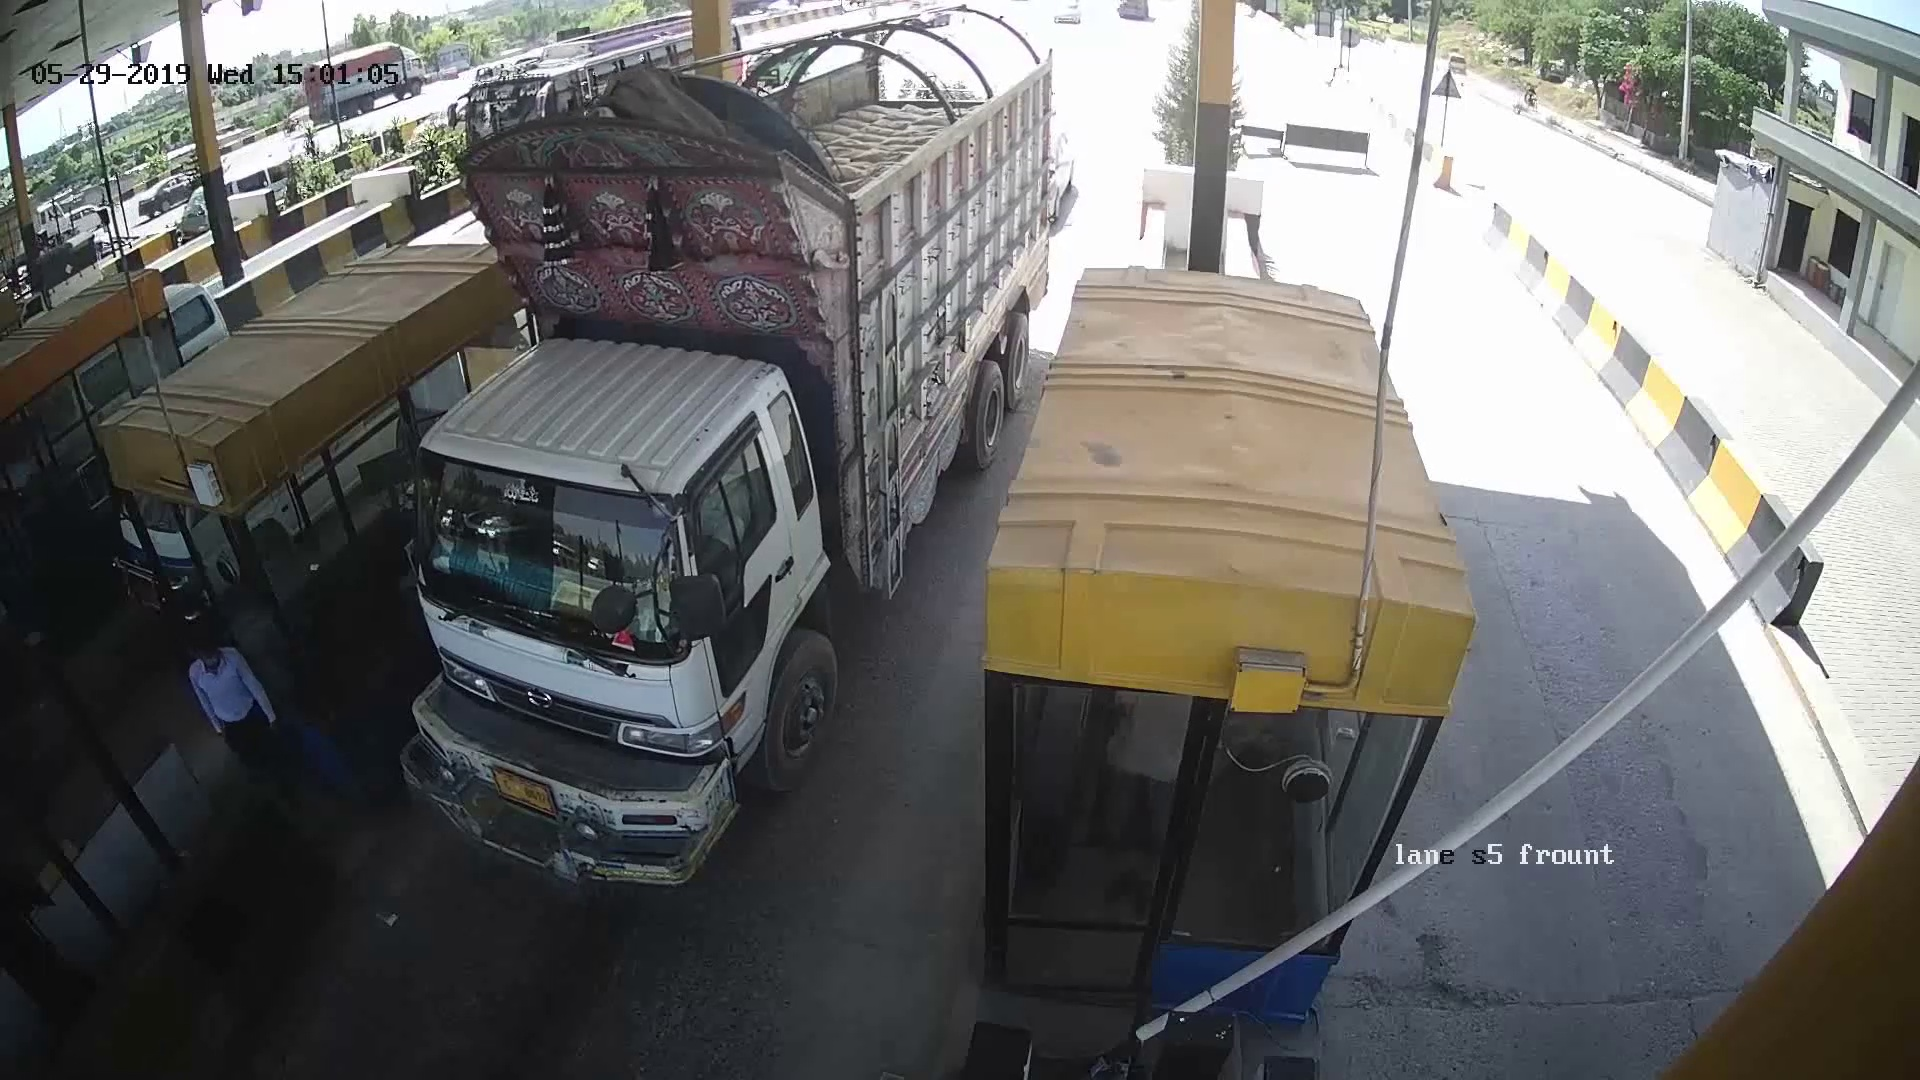truck: (448, 74, 1006, 819)
